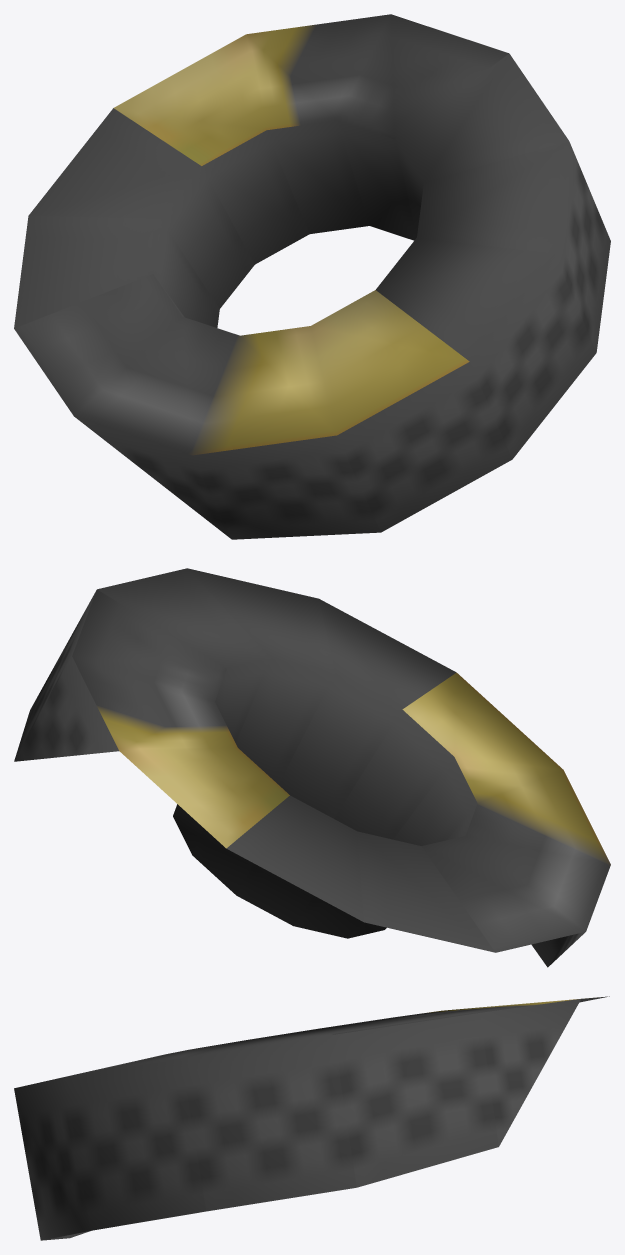
Rendered from fg_tire_out.dae.
The picture shows the model from 3 angles, top to bottom: view 1: azimuth 30°, elevation 25°; view 2: azimuth 150°, elevation 25°; view 3: azimuth 270°, elevation 25°; orthographic projection. The views are drawn at different scales.
Parts seen in each view (by area): view 1: fg_tire_out; view 2: fg_tire_out; view 3: fg_tire_out.
Boxes of the visible parts, x1,y1,x2,y2 form: fg_tire_out: [14, 14, 610, 539]; fg_tire_out: [14, 568, 610, 967]; fg_tire_out: [14, 996, 609, 1240].
Bounding box in the file's own units: 17.39 × 11.09 × 17.17.
1 material, 1 textured.
